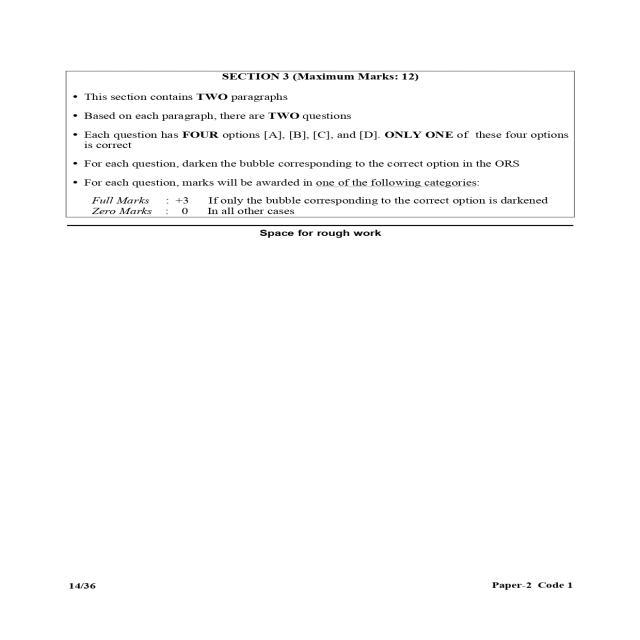Instruction: (41, 43, 592, 249)
Question_Paper_Area: (41, 43, 592, 546)
